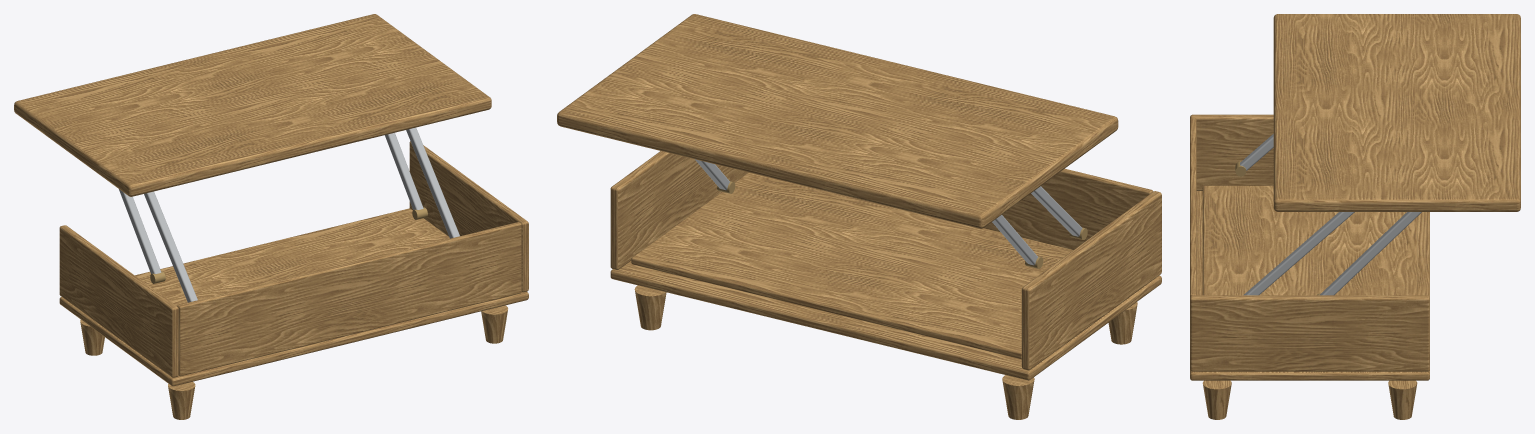
Rendered from residential-lift-coffee-table.glb.
The picture shows the model from 3 angles, left to right: view 1: azimuth 30°, elevation 25°; view 2: azimuth 150°, elevation 25°; view 3: azimuth 270°, elevation 25°; orthographic projection. The views are drawn at different scales.
Visible parts, largest first — view 1: oak_surfaces, steel_surfaces; view 2: oak_surfaces, steel_surfaces; view 3: oak_surfaces, steel_surfaces.
Boxes of the visible parts, box(x1,y1,x2,y2) form: oak_surfaces: box(14, 14, 528, 419); steel_surfaces: box(119, 127, 459, 302); oak_surfaces: box(557, 14, 1161, 419); steel_surfaces: box(695, 159, 1082, 265); oak_surfaces: box(1190, 14, 1520, 419); steel_surfaces: box(1240, 134, 1421, 295).
Bounding box in the file's own units: 1.22 × 0.695 × 0.91.
3 materials, 1 textured.
